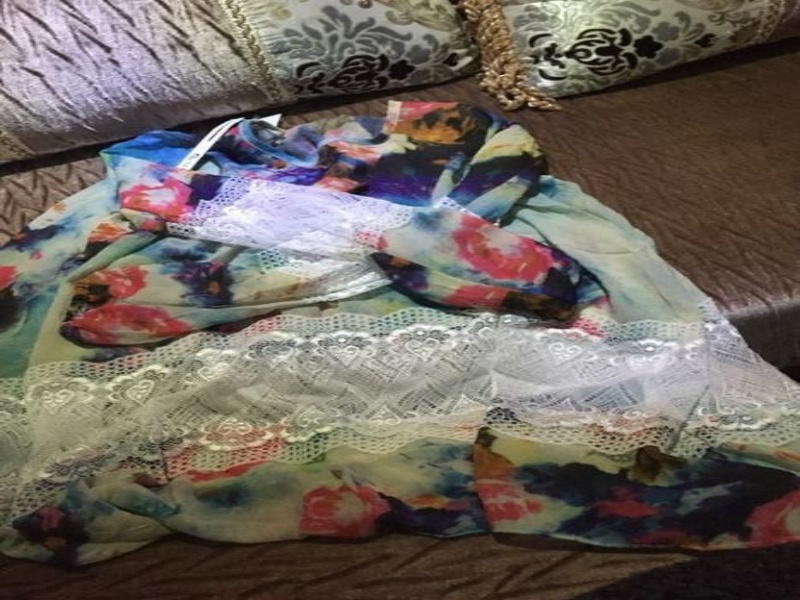long_sleeved_shirt: (0, 93, 797, 577)
